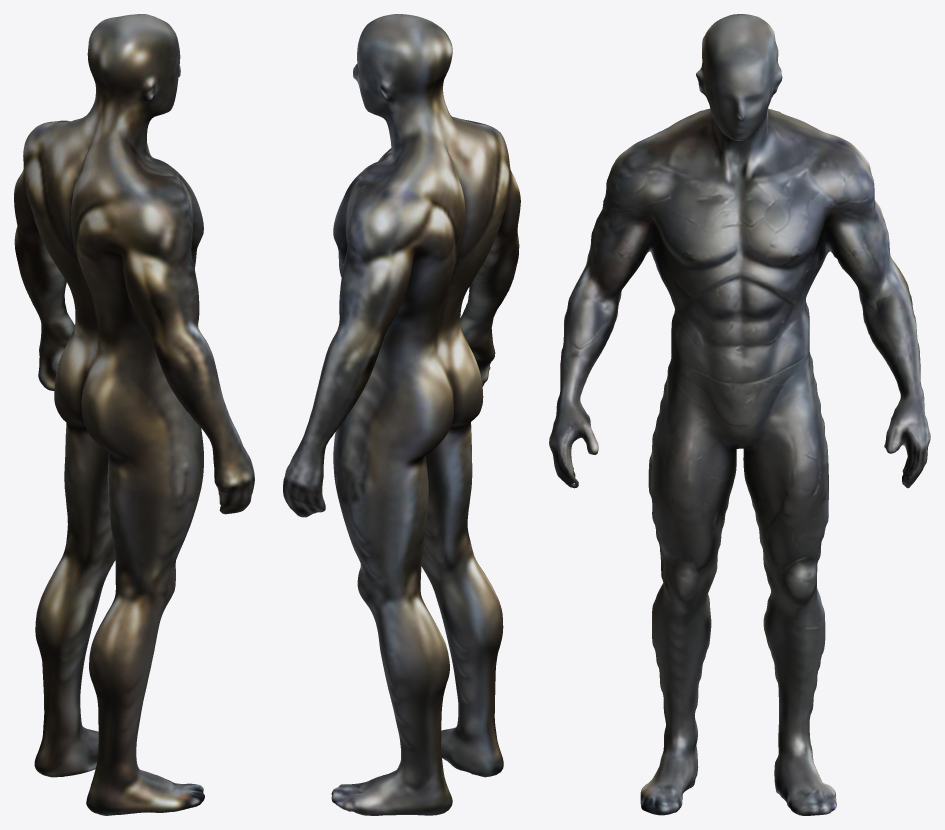
File: bodymap-figure-2.glb
3 views of the same model, side by side, from view 1: azimuth 30°, elevation 25°; view 2: azimuth 150°, elevation 25°; view 3: azimuth 270°, elevation 25° (orthographic). The views are drawn at different scales.
Parts seen in each view (by area): view 1: tripo_node_e003450f-4328-4b16-8983-98db4774d752; view 2: tripo_node_e003450f-4328-4b16-8983-98db4774d752; view 3: tripo_node_e003450f-4328-4b16-8983-98db4774d752.
Boxes of the visible parts, left/top/right/bottom form: tripo_node_e003450f-4328-4b16-8983-98db4774d752: left=14, top=14, right=254, bottom=815; tripo_node_e003450f-4328-4b16-8983-98db4774d752: left=283, top=14, right=520, bottom=815; tripo_node_e003450f-4328-4b16-8983-98db4774d752: left=549, top=14, right=930, bottom=815.
Bounding box in the file's own units: 0.1688 × 0.9742 × 0.4298.
1 material, 1 textured.
